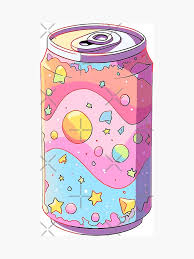can: (41, 22, 154, 237)
